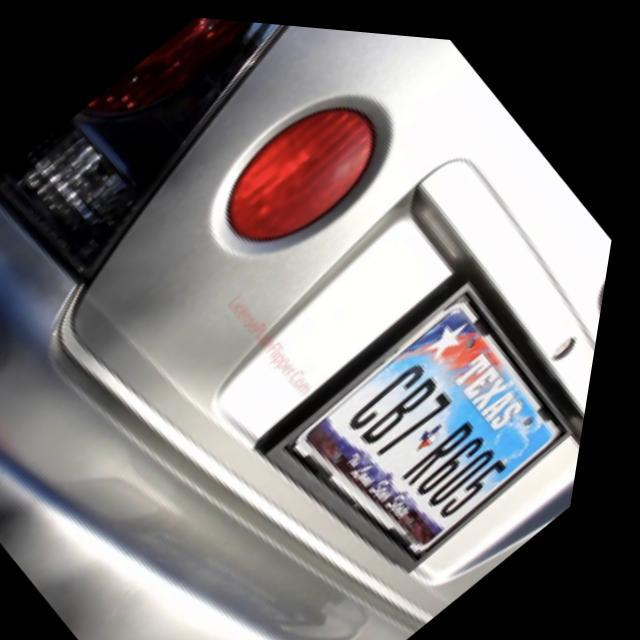license_plate: (278, 263, 611, 582)
